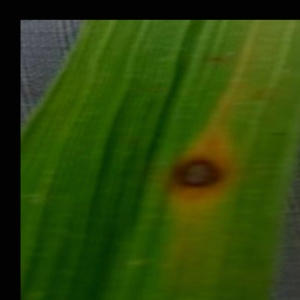Bacterial_Leaf_Blight: (153, 138, 244, 207), (199, 48, 227, 70), (267, 125, 292, 144), (249, 81, 272, 100)
